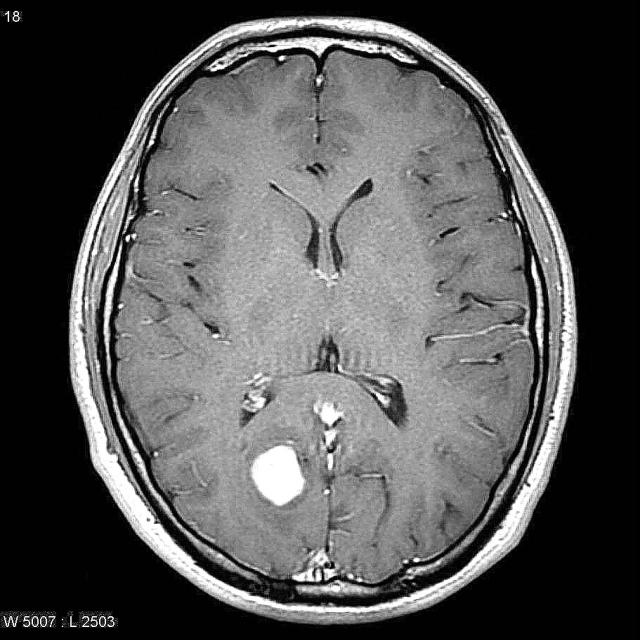Tumor-Cell: (248, 424, 318, 521)
